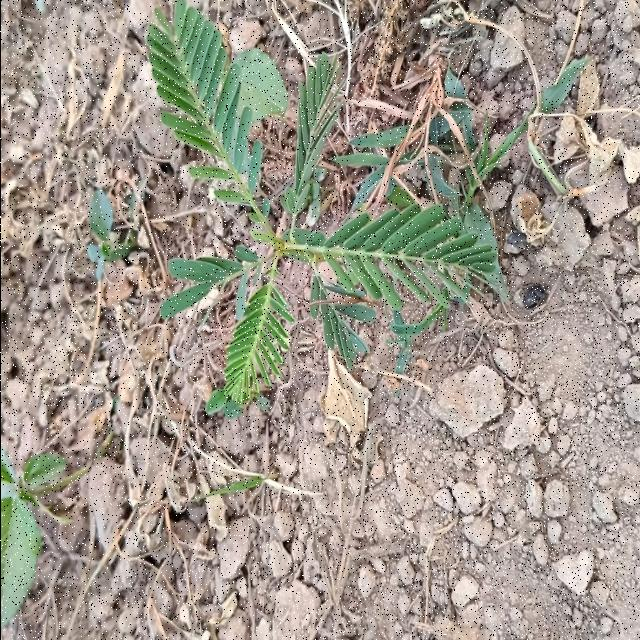weed: (145, 1, 500, 416)
